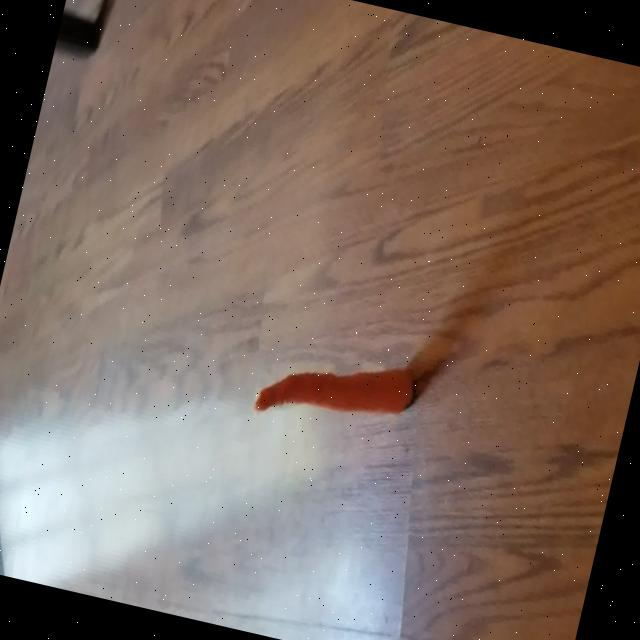carrot: (254, 367, 413, 413)
